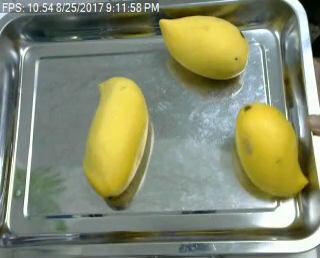Mango: (79, 74, 152, 199), (233, 101, 311, 201), (155, 13, 253, 80)
